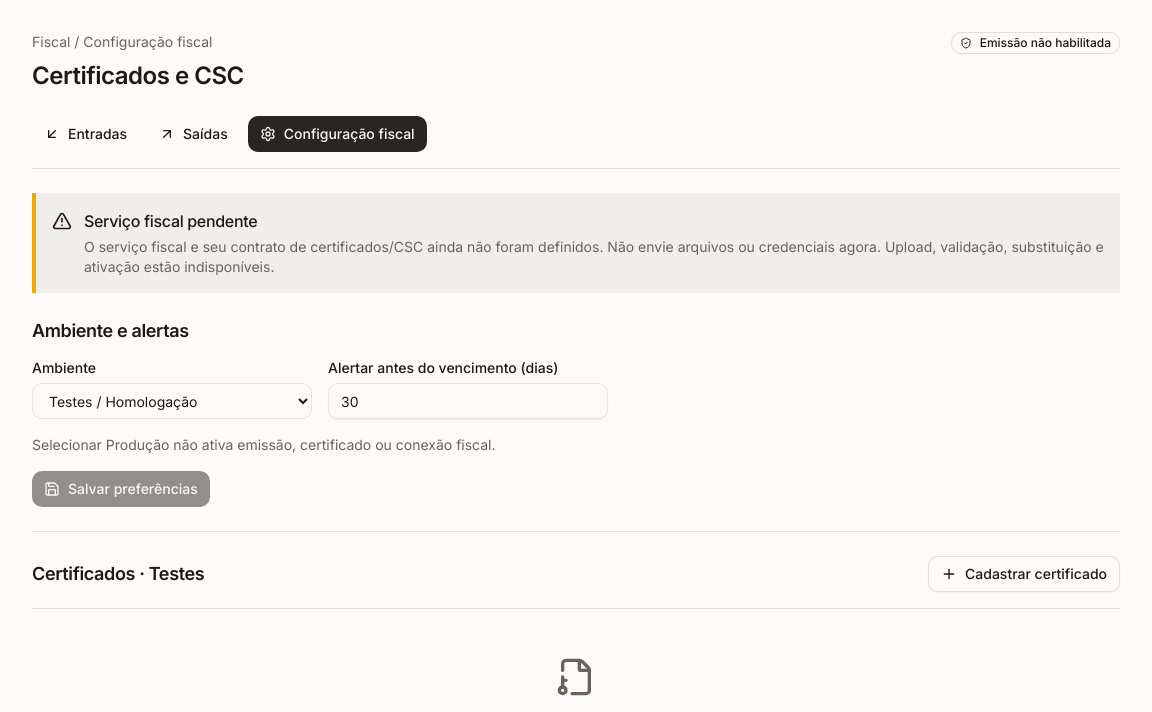
Test case: explains the provider requirement without accepting private files
Click the button "Cadastrar certificado" at (1024, 574), box [928,556,1120,592]
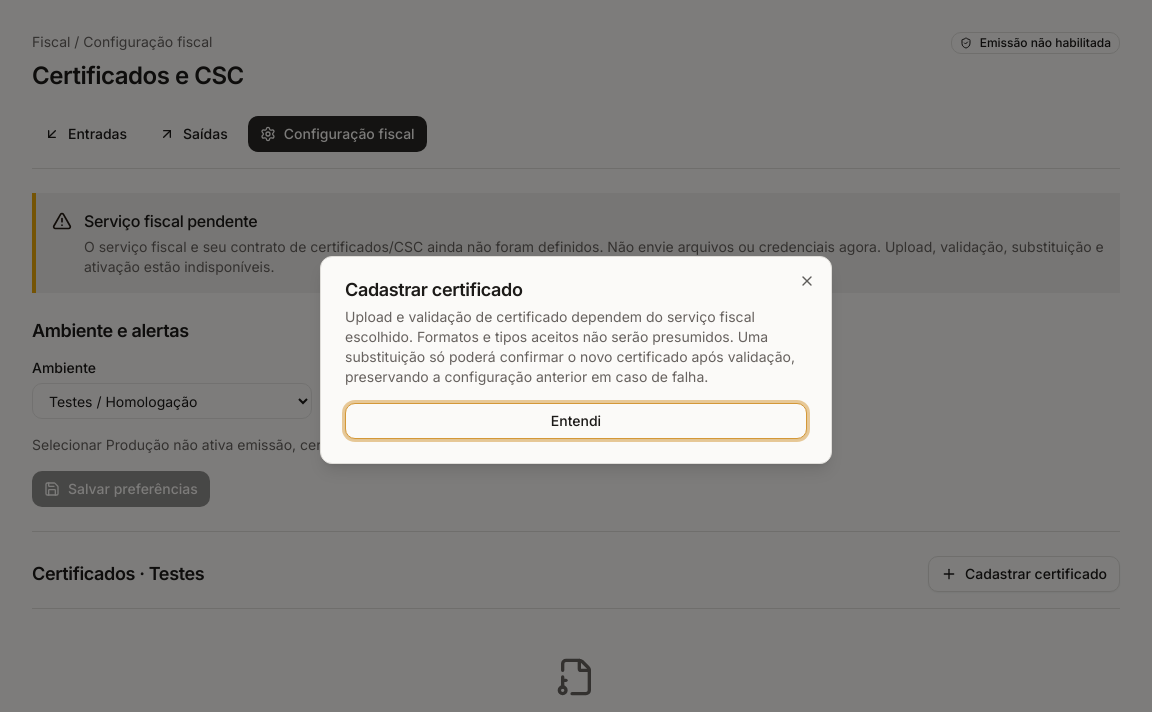
Check: the dialog shows "Upload e validação de certificado dependem do serviço fiscal escolhido", box [345,308,795,385]
